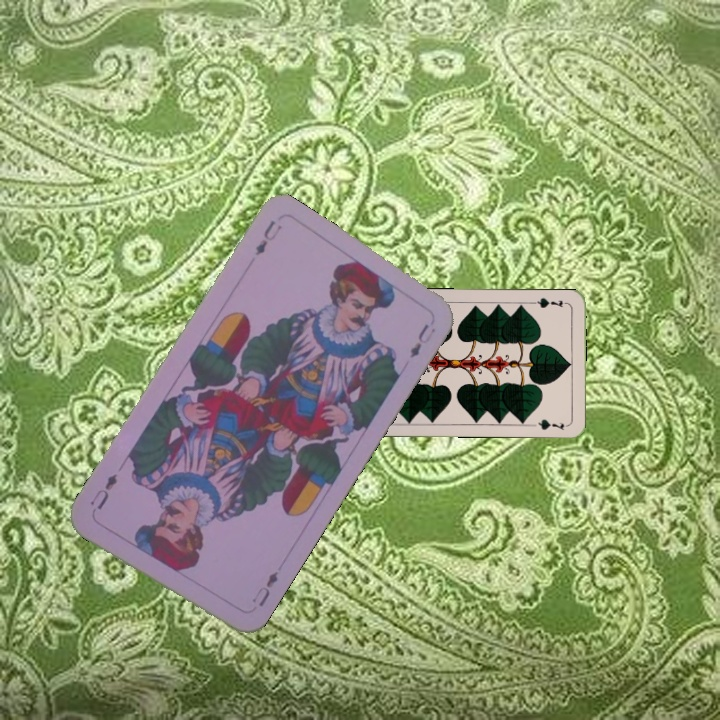EU: (251, 215, 285, 259), (247, 567, 281, 610)
G7: (529, 294, 570, 311)
